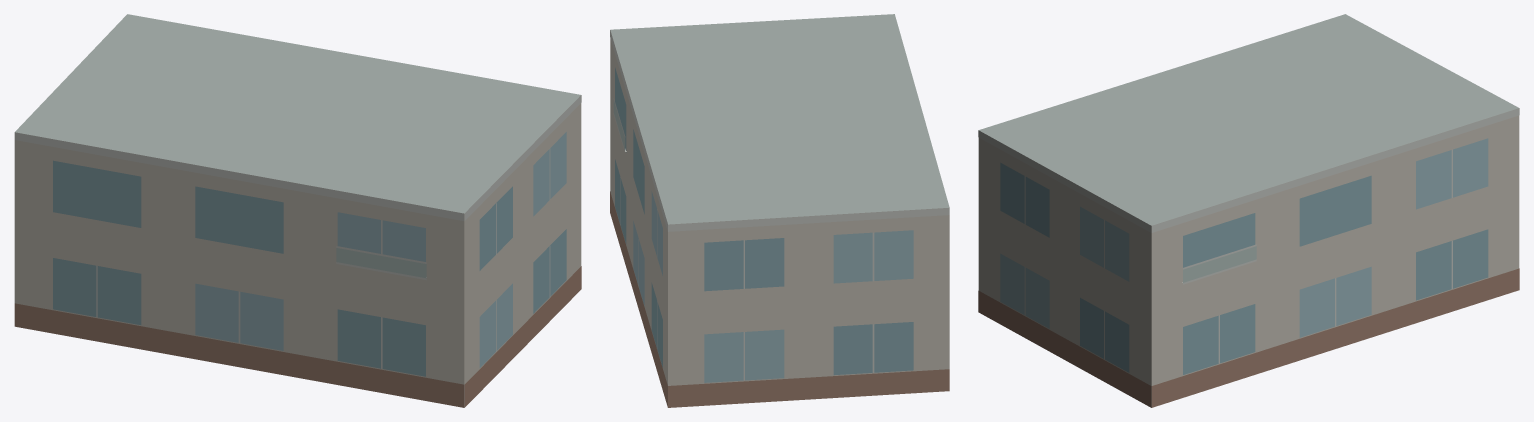
File: survey-upis-32707453.glb
The picture shows the model from 3 angles, left to right: view 1: azimuth 30°, elevation 25°; view 2: azimuth 150°, elevation 25°; view 3: azimuth 270°, elevation 25°; orthographic projection. The views are drawn at different scales.
Parts seen in each view (by area): view 1: survey-upis-32707453.tmp; view 2: survey-upis-32707453.tmp; view 3: survey-upis-32707453.tmp.
Part boxes in pixels (<box>): survey-upis-32707453.tmp: <box>14,14,581,407</box>; survey-upis-32707453.tmp: <box>610,14,949,407</box>; survey-upis-32707453.tmp: <box>978,14,1519,407</box>.
Size of the model in its own units: 15.23 by 6.1 by 16.44.
